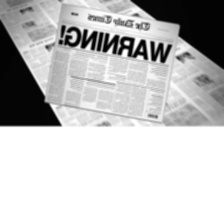news_paper: (0, 0, 224, 126), (39, 1, 180, 123)
